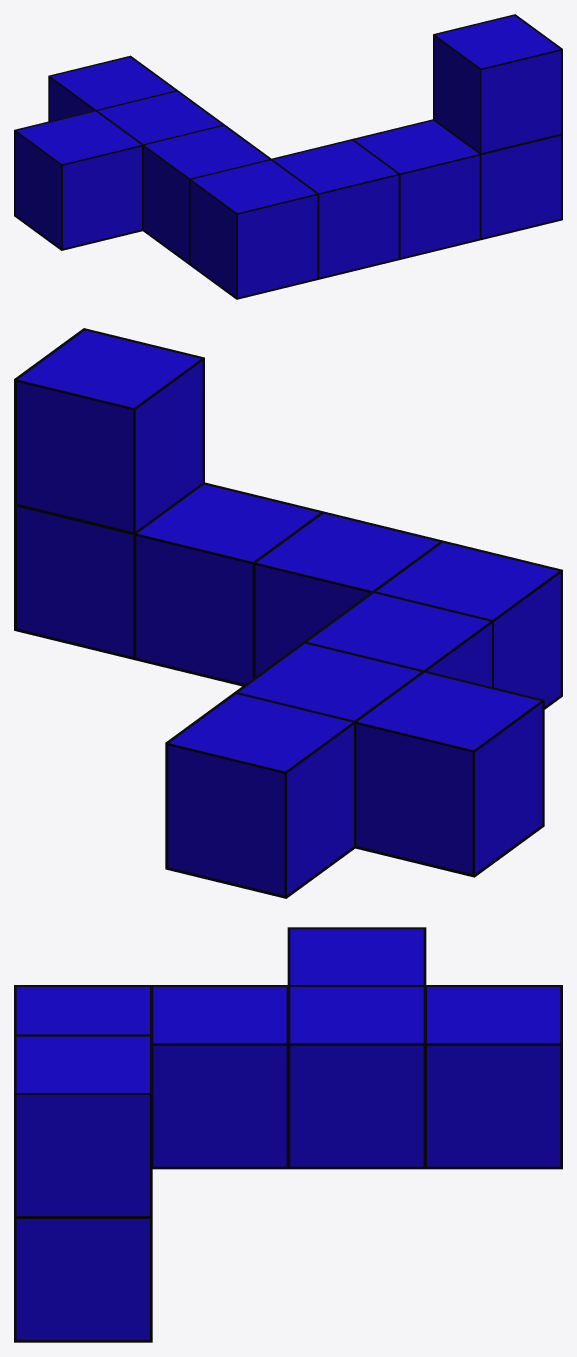
The picture shows the model from 3 angles, top to bottom: view 1: azimuth 30°, elevation 25°; view 2: azimuth 150°, elevation 25°; view 3: azimuth 270°, elevation 25°; orthographic projection. The views are drawn at different scales.
Visible parts, largest first — view 1: a1:Mesh; view 2: a1:Mesh; view 3: a1:Mesh.
Part boxes in pixels (x1,y1,x2,y2): a1:Mesh: (14,14,562,299); a1:Mesh: (14,328,562,898); a1:Mesh: (14,927,562,1342).
Bounding box in the file's own units: 10.03 × 4.03 × 8.03.
